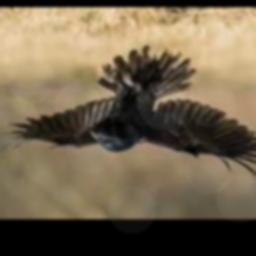Crow: (0, 46, 256, 181)
